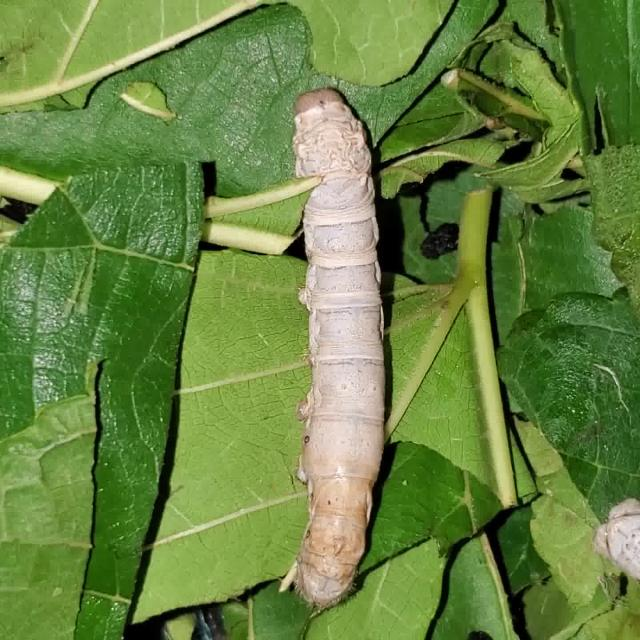Grasserie: (266, 66, 416, 614)
